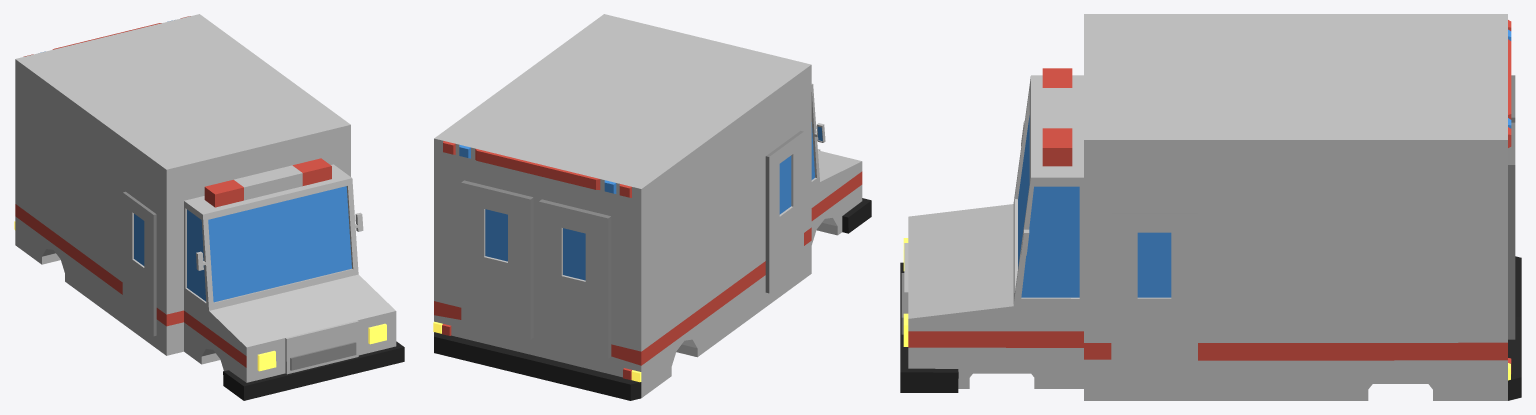
The model's file is ambulance.glb.
3 views of the same model, side by side, from view 1: azimuth 30°, elevation 25°; view 2: azimuth 150°, elevation 25°; view 3: azimuth 270°, elevation 25° (orthographic). The views are drawn at different scales.
Parts seen in each view (by area): view 1: ambulance; view 2: ambulance; view 3: ambulance.
Part boxes in pixels (x1,y1,x2,y2): ambulance: [14, 14, 404, 400]; ambulance: [433, 14, 871, 400]; ambulance: [900, 14, 1521, 400].
Size of the model in its own units: 2.33 by 2.17 by 4.69.
